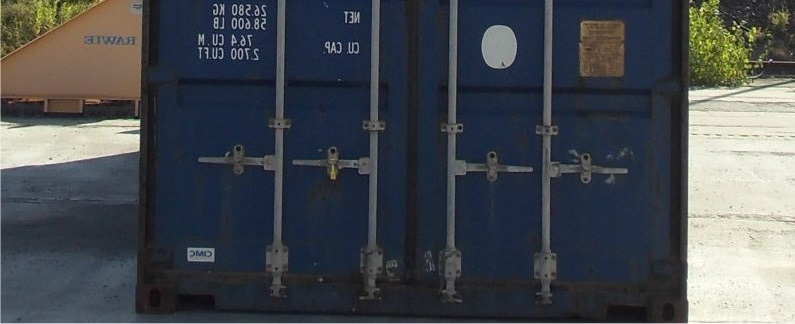container_door: (136, 2, 692, 313)
